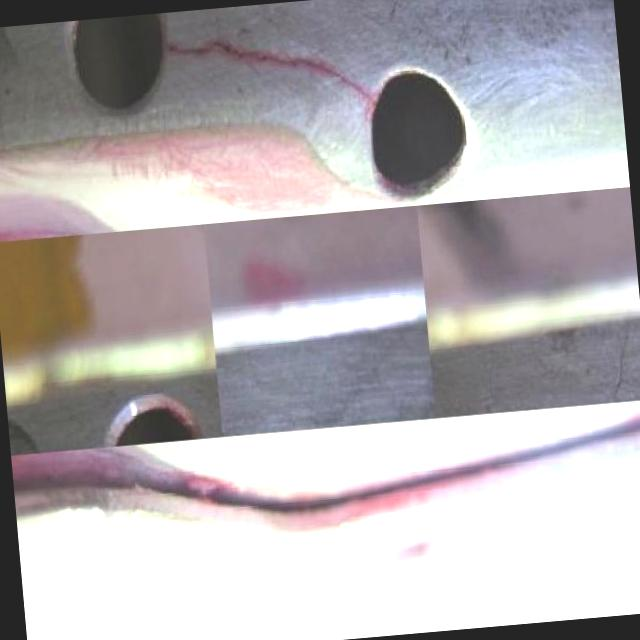crack: (220, 32, 338, 78), (332, 68, 375, 104), (166, 38, 222, 62)
